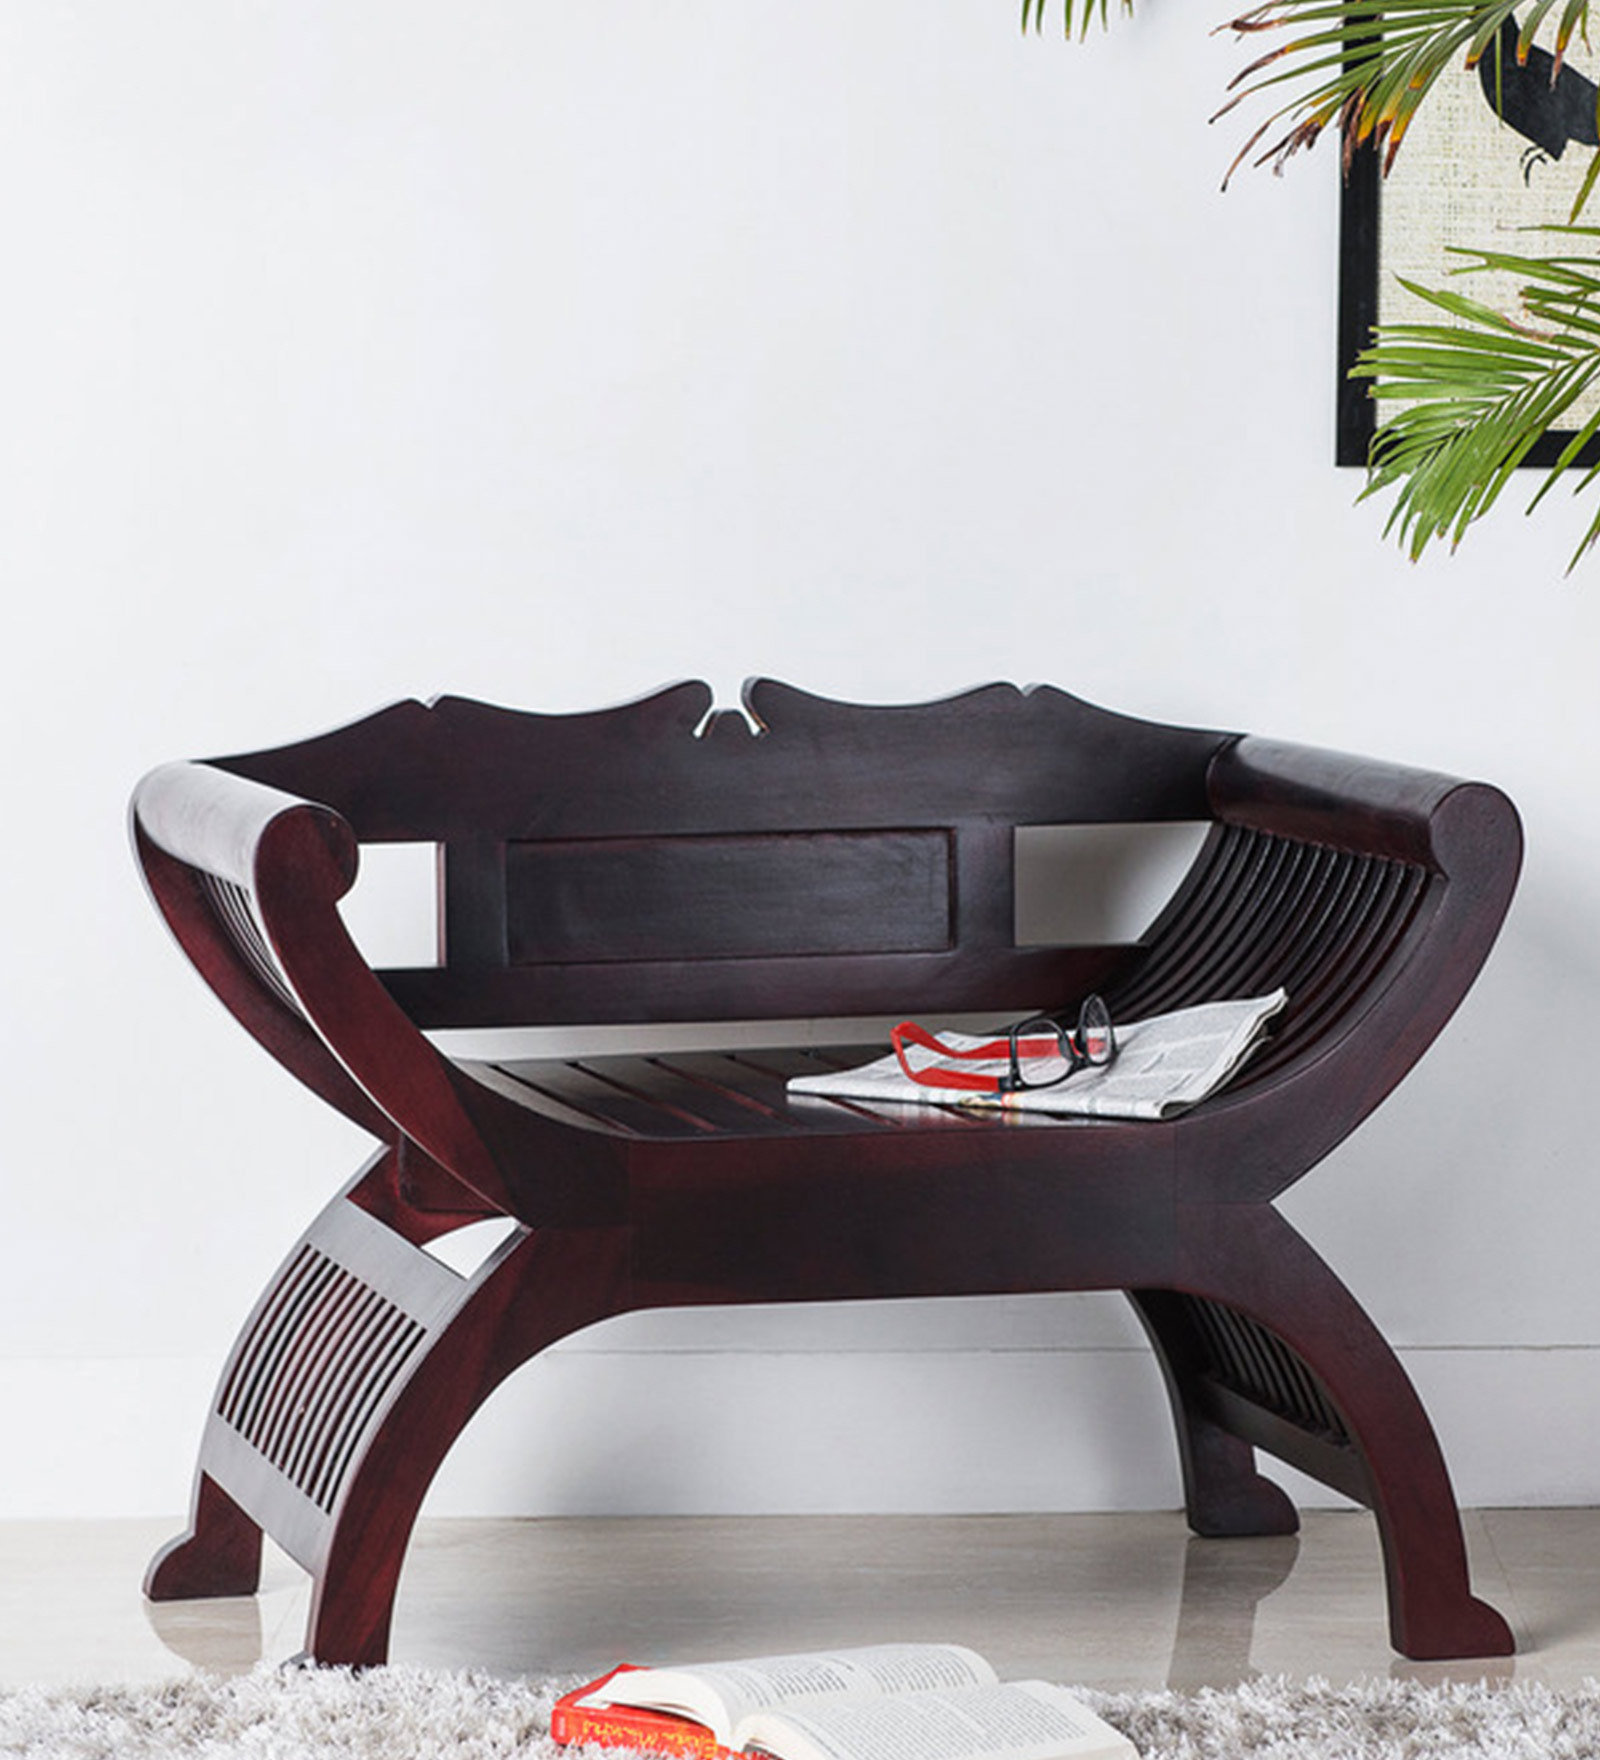William Arm Chair in Passion Mahogany Finish by Amberville: (87, 557, 1571, 1699)
